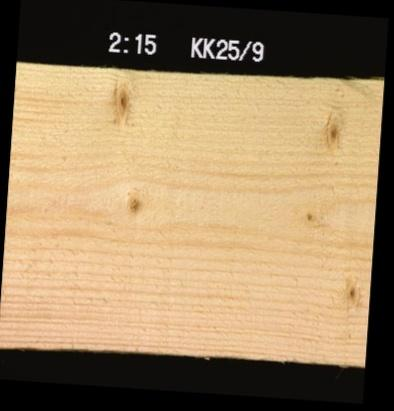small_knot: (321, 107, 345, 152), (340, 273, 363, 308), (300, 206, 316, 224)
sound_knot: (107, 78, 135, 124), (123, 190, 143, 216)
